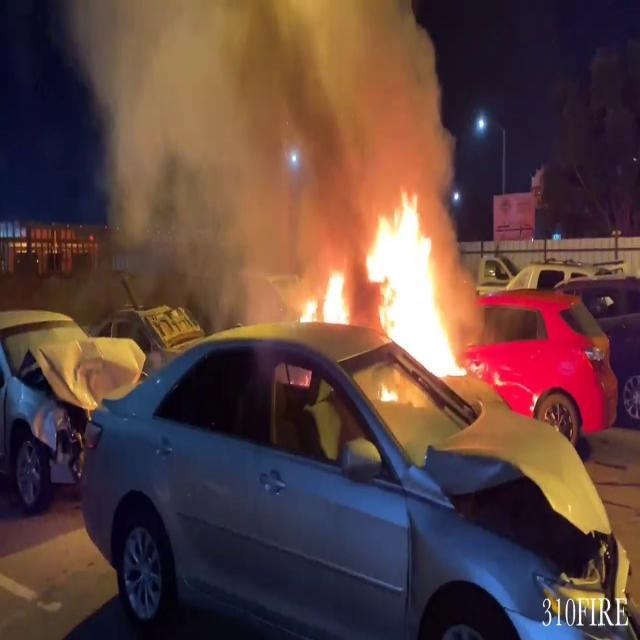Fire: (359, 182, 467, 382), (293, 262, 353, 332)
Smoke: (63, 0, 462, 268)
